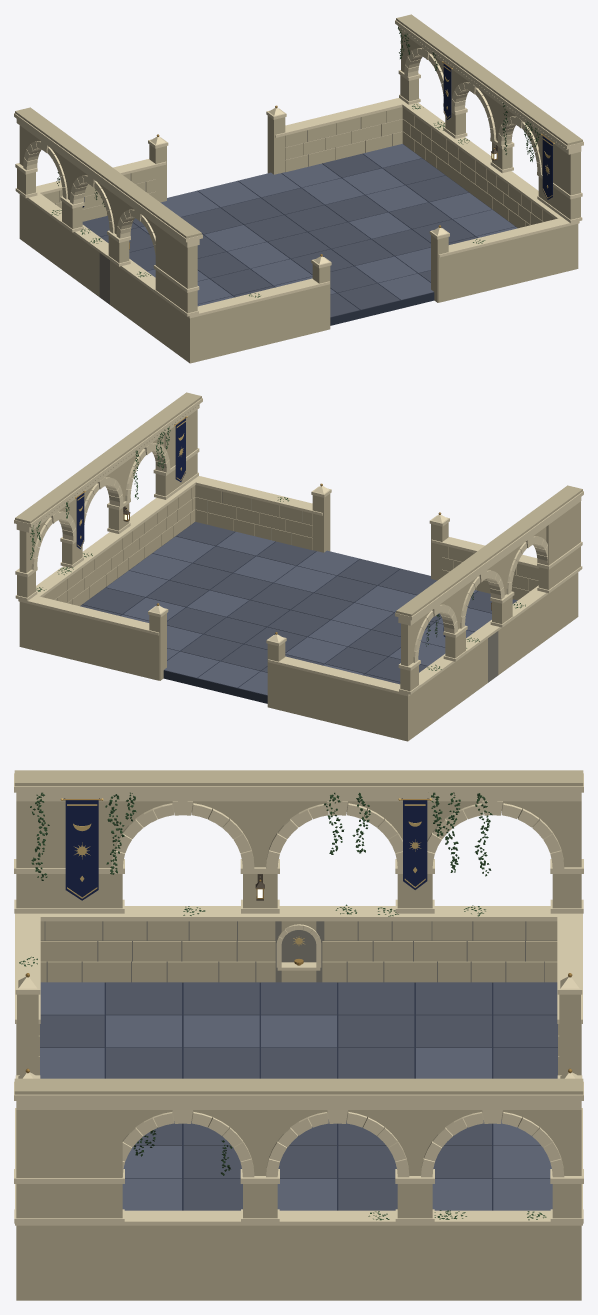
File: shadow-room2-v01.glb
The picture shows the model from 3 angles, top to bottom: view 1: azimuth 30°, elevation 25°; view 2: azimuth 150°, elevation 25°; view 3: azimuth 270°, elevation 25°; orthographic projection. The views are drawn at different scales.
Parts seen in each view (by area): view 1: Shadow sandstone 3, Shadow floor slate 1, Shadow sandstone light 5, Shadow floor slate alt 2, Shadow grout 0, Shadow banner cloth 8, Shadow ivy 12, Shadow sandstone shade 4; view 2: Shadow sandstone 3, Shadow floor slate 1, Shadow sandstone light 5, Shadow floor slate alt 2, Shadow grout 0, Shadow banner cloth 8, Shadow ivy 12, Shadow sandstone shade 4; view 3: Shadow sandstone 3, Shadow sandstone light 5, Shadow floor slate 1, Shadow floor slate alt 2, Shadow banner cloth 8, Shadow ivy 12, Shadow sandstone shade 4, Shadow grout 0.
Boxes of the visible parts, bbox=[...] form: Shadow sandstone 3: bbox=[15, 14, 582, 363]; Shadow floor slate 1: bbox=[82, 154, 476, 317]; Shadow sandstone light 5: bbox=[14, 20, 583, 318]; Shadow floor slate alt 2: bbox=[140, 144, 517, 306]; Shadow grout 0: bbox=[100, 144, 516, 325]; Shadow banner cloth 8: bbox=[82, 63, 552, 207]; Shadow ivy 12: bbox=[51, 27, 540, 297]; Shadow sandstone shade 4: bbox=[55, 117, 517, 304]; Shadow sandstone 3: bbox=[15, 392, 582, 741]; Shadow floor slate 1: bbox=[80, 522, 517, 684]; Shadow sandstone light 5: bbox=[14, 398, 583, 696]; Shadow floor slate alt 2: bbox=[106, 532, 491, 695]; Shadow grout 0: bbox=[81, 522, 491, 703]; Shadow banner cloth 8: bbox=[76, 418, 445, 636]; Shadow ivy 12: bbox=[30, 426, 525, 670]; Shadow sandstone shade 4: bbox=[80, 492, 516, 682]; Shadow sandstone 3: bbox=[14, 770, 583, 1300]; Shadow sandstone light 5: bbox=[14, 773, 583, 1225]; Shadow floor slate 1: bbox=[40, 982, 557, 1210]; Shadow floor slate alt 2: bbox=[40, 982, 552, 1210]; Shadow banner cloth 8: bbox=[65, 800, 427, 900]; Shadow ivy 12: bbox=[19, 792, 546, 1220]; Shadow sandstone shade 4: bbox=[41, 921, 556, 982]; Shadow grout 0: bbox=[40, 982, 557, 1210].
Size of the model in its own units: 19.68 by 6.06 by 14.72.
